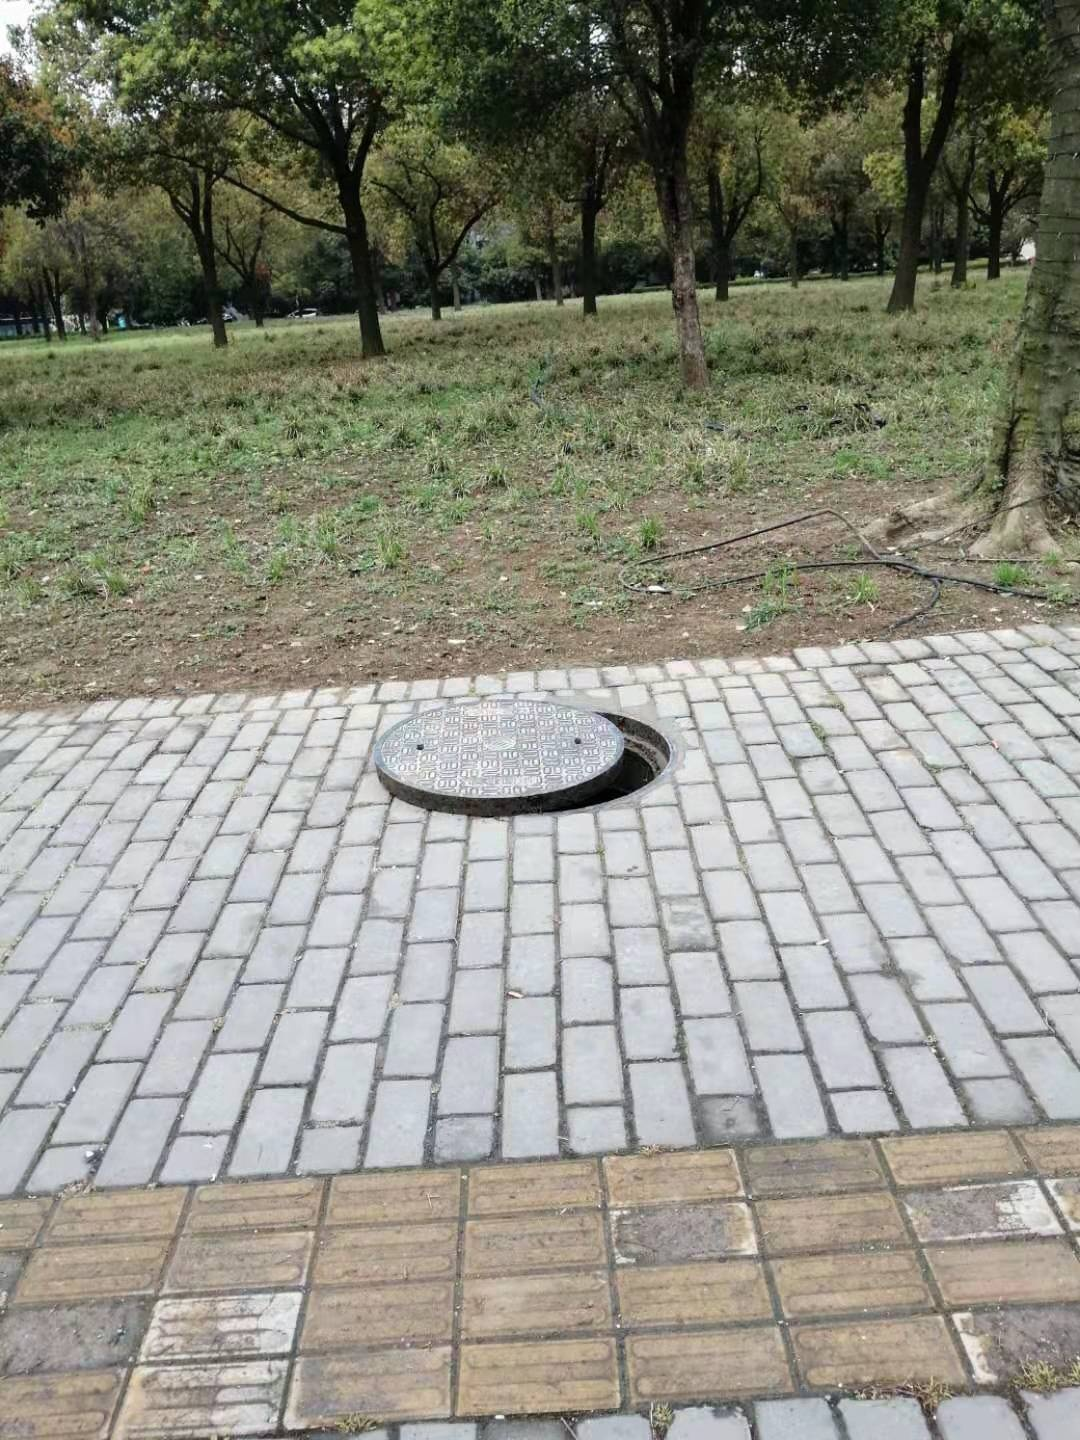well: (368, 698, 670, 819)
